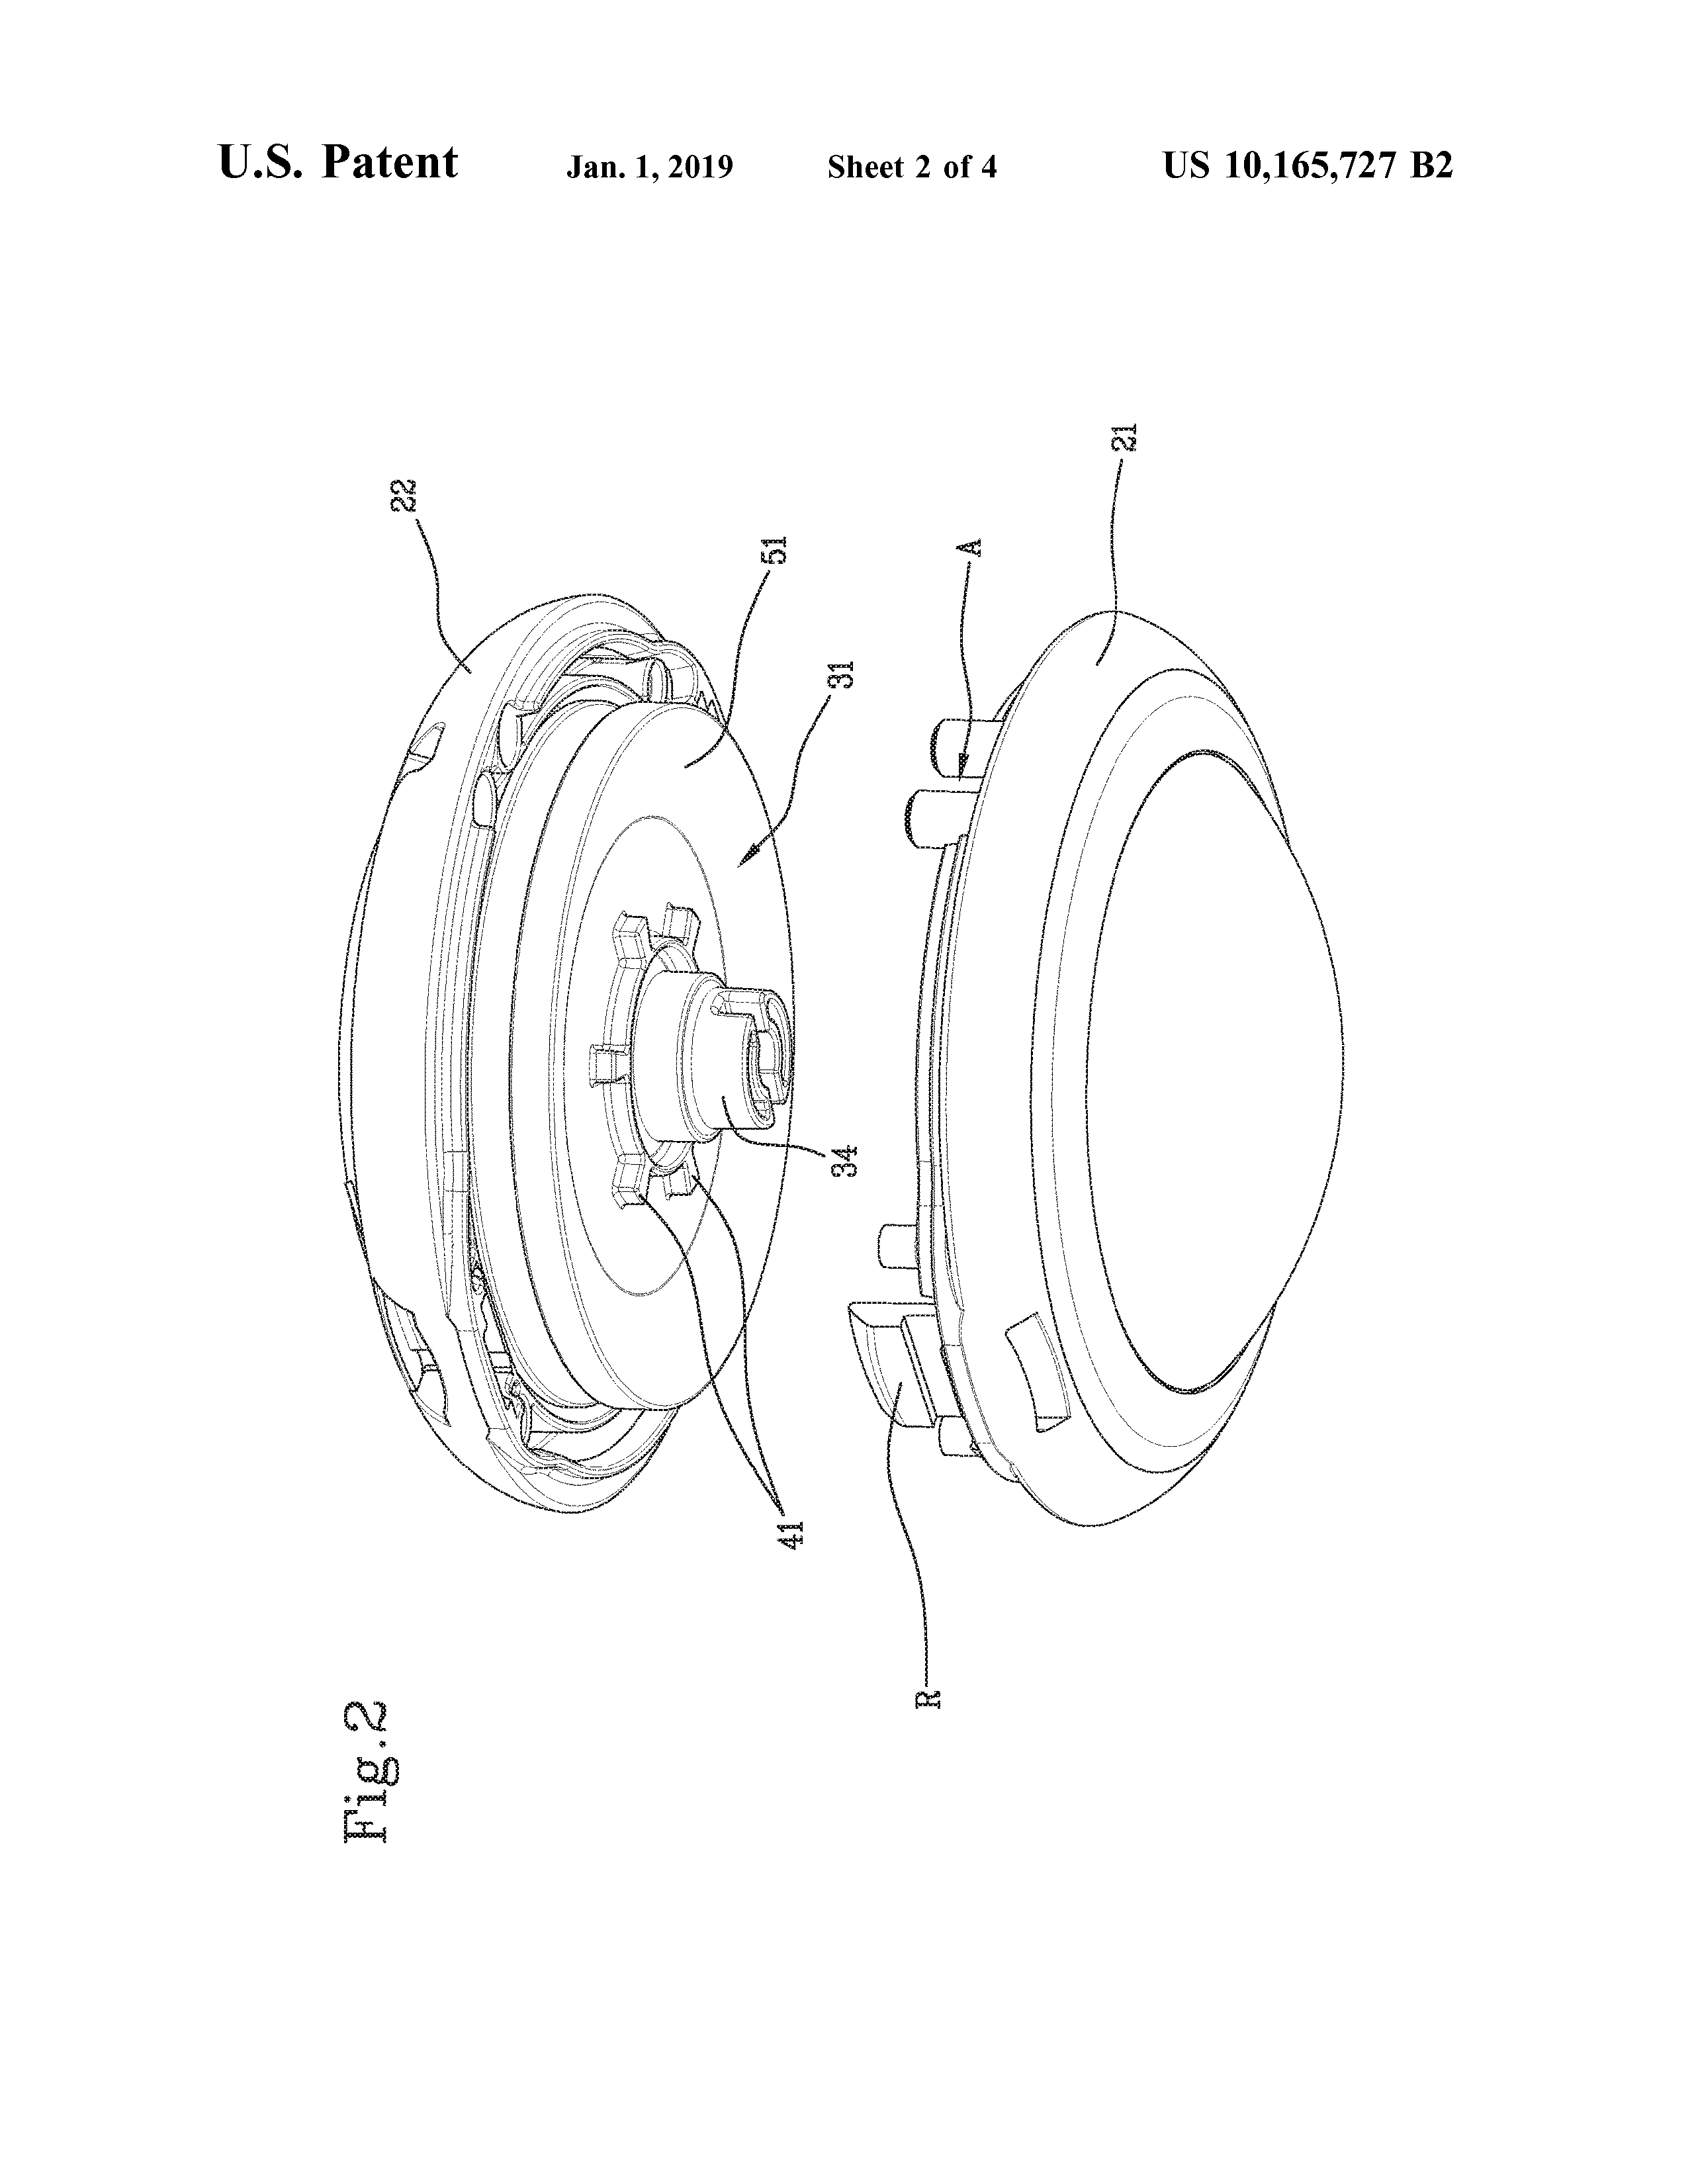patent image: (275, 351, 1378, 1979)
